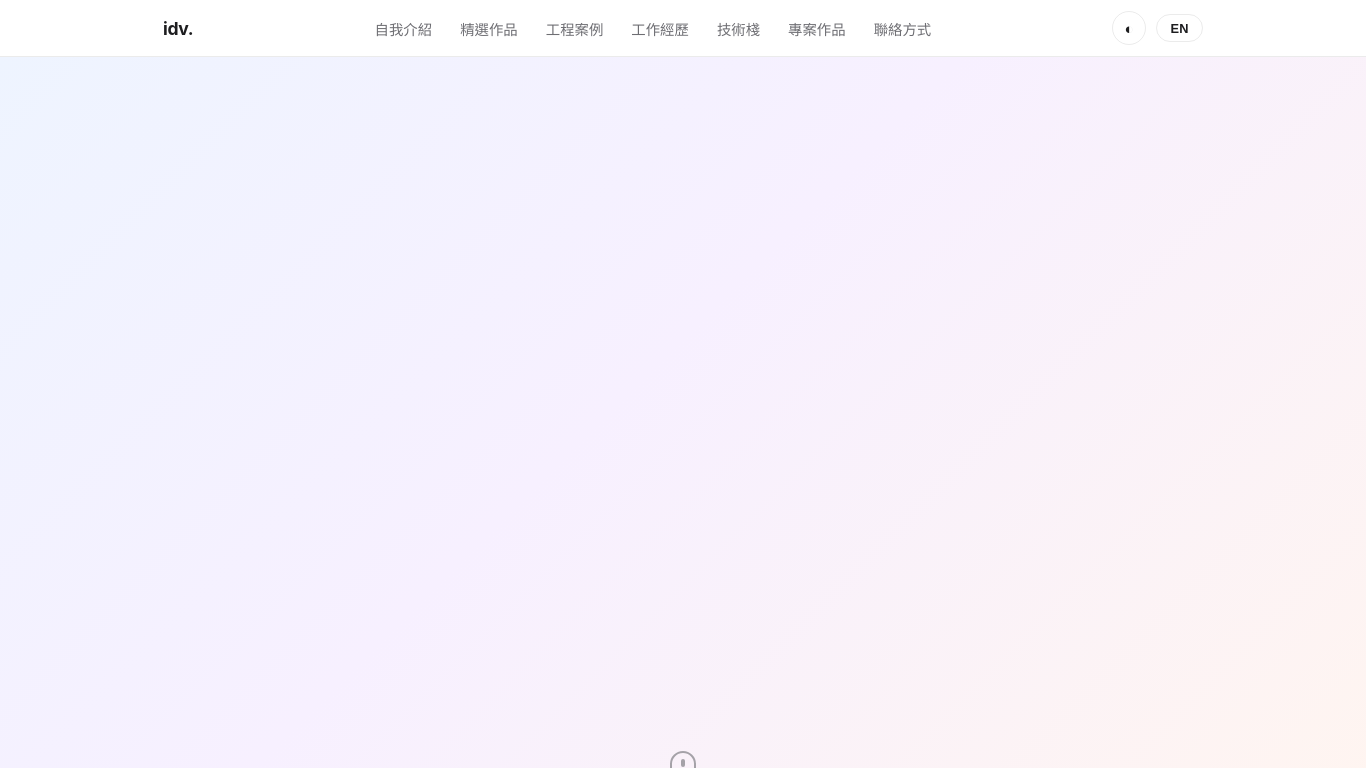
Test: HomeView › switches section labels when the language toggle is clicked
Step 1. Click the button with class "nav__lang" → x=1180, y=28, box x1=1156 y1=14 x2=1203 y2=42
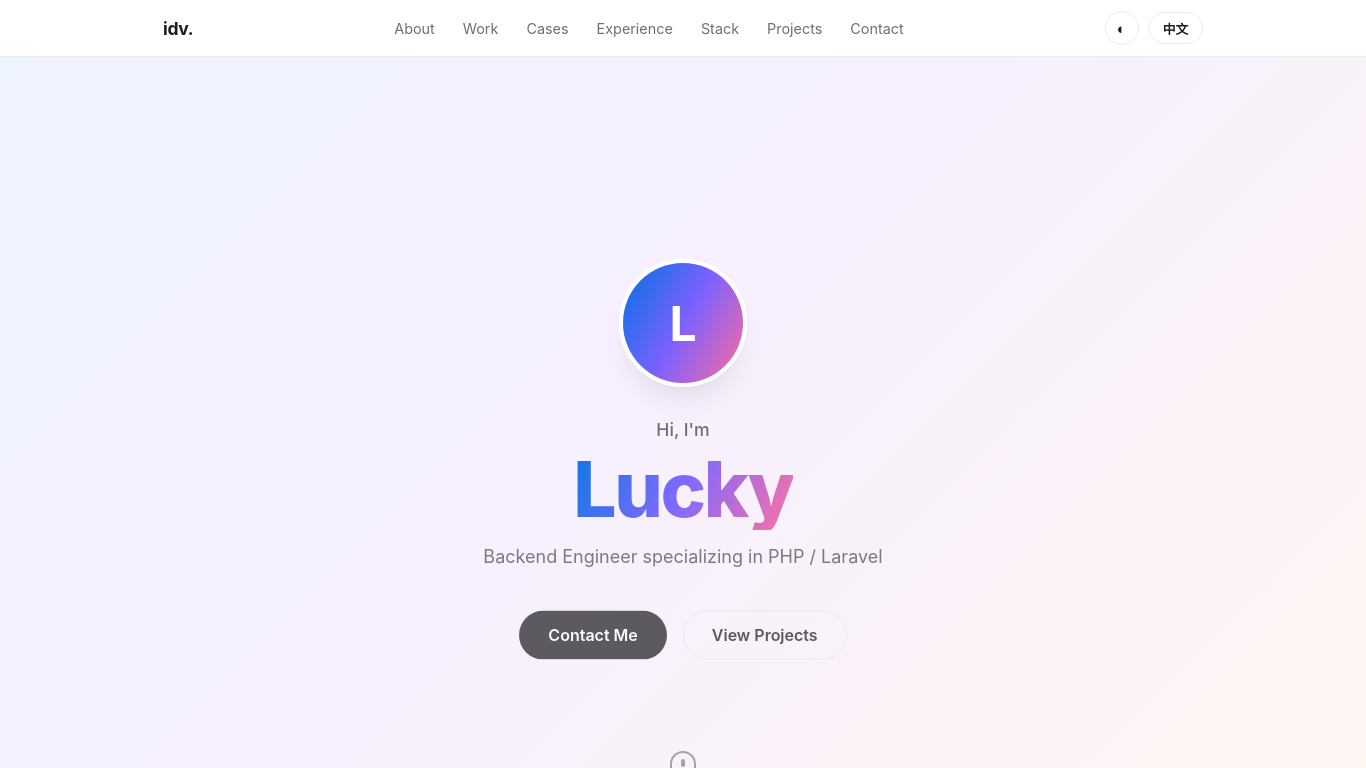
Check: the text "About" is shown, box x1=394 y1=16 x2=435 y2=40
Check: the text "Backend Engineer specializing in PHP / Laravel" is shown, box x1=483 y1=546 x2=883 y2=567
